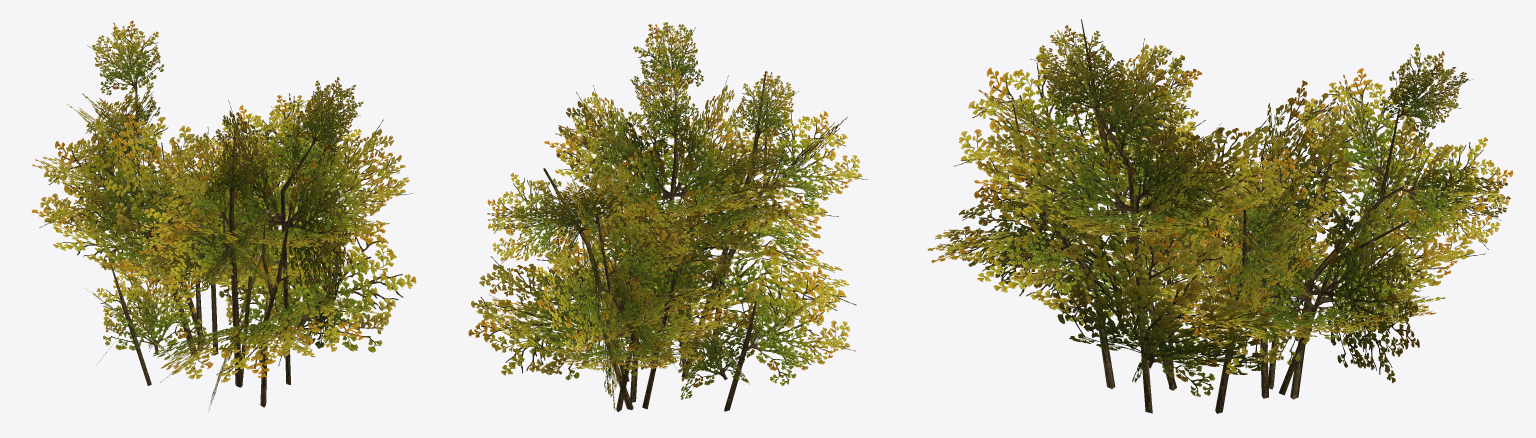
The model's file is huangguanmu_dw_41.FBX.
3 renders of one model, left to right at view 1: azimuth 30°, elevation 25°; view 2: azimuth 150°, elevation 25°; view 3: azimuth 270°, elevation 25°, orthographic. The views are drawn at different scales.
Visible parts, largest first — view 1: huangguanmu_dw_41; view 2: huangguanmu_dw_41; view 3: huangguanmu_dw_41.
Part boxes in pixels (x1,y1,x2,y2): huangguanmu_dw_41: (31, 21, 416, 411); huangguanmu_dw_41: (468, 22, 867, 411); huangguanmu_dw_41: (927, 19, 1512, 413).
Bounding box in the file's own units: 636 × 572 × 811.
